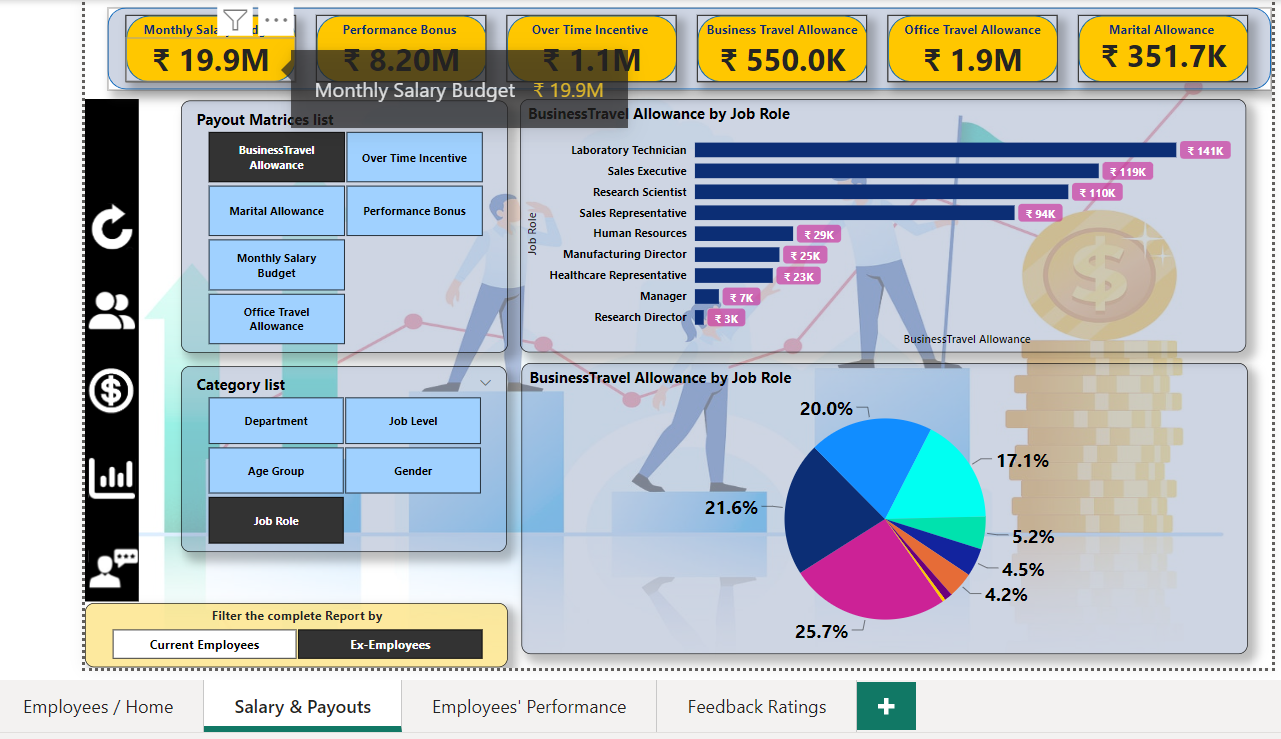

This screenshot's page, from the dashboard's own definition file:
{"tool":"powerbi","page":{"name":"Salary & Payouts","canvas":[1280,720],"ordinal":1},"visuals":[{"type":"shape","title":"backgroung","box":[24.3,8.1,1255,88.3],"z":0,"group":"g2"},{"type":"shape","box":[45.6,16.1,183.3,71.7],"z":0,"group":"g1"},{"type":"shape","box":[249.6,16.7,183.3,71.7],"z":0,"group":"g6"},{"type":"shape","box":[455,16.7,183.3,71.7],"z":0,"group":"g5"},{"type":"shape","box":[660.9,16.7,183.3,71.7],"z":0,"group":"g7"},{"type":"shape","box":[865.6,16.7,183.3,71.7],"z":0,"group":"g4"},{"type":"shape","box":[1071,16.7,183.3,71.7],"z":0,"group":"g3"},{"type":"actionButton","box":[0,212,58.2,64.7],"z":0,"group":"g8"},{"type":"slicer","title":"Filter the complete Report by","fields":{"Values":["Employees.attrition label"]},"box":[0,650.4,456.3,69.6],"z":0},{"type":"group","id":"g1","title":"Group 2","box":[45.6,16.1,183.3,71.7],"z":1000,"group":"g2"},{"type":"textbox","box":[45.6,16.1,183.3,36.7],"z":1000,"group":"g1"},{"type":"textbox","box":[249.6,16.7,183.3,36.7],"z":1000,"group":"g6"},{"type":"textbox","box":[455,16.7,183.3,36.7],"z":1000,"group":"g5"},{"type":"textbox","box":[660.3,16.7,183.3,36.7],"z":1000,"group":"g7"},{"type":"textbox","box":[865.6,16.7,183.3,36.7],"z":1000,"group":"g4"},{"type":"textbox","box":[1071,16.7,183.3,36.7],"z":1000,"group":"g3"},{"type":"shape","box":[0,106.8,58.2,542],"z":1000},{"type":"actionButton","box":[0,305.8,58.2,58.2],"z":1000,"group":"g8"},{"type":"group","id":"g2","title":"Group 3","box":[24.3,8.1,1255,88.3],"z":2000},{"type":"group","id":"g3","title":"Group 2","box":[1071,16.7,183.3,71.7],"z":2000,"group":"g2"},{"type":"card","title":"card","fields":{"Values":["Measures Table.$ Marital Allowance Paid Amount"]},"box":[1071.6,36.5,183.3,46.7],"z":2000,"group":"g3"},{"type":"card","title":"card","fields":{"Values":["Measures Table.$ yearly (base) Salary Budget"]},"box":[45.6,41.1,183.3,46.7],"z":2000,"group":"g1"},{"type":"card","title":"card","fields":{"Values":["Measures Table.$ Performance Bonus amount Paid"]},"box":[249.6,41.7,183.3,46.7],"z":2000,"group":"g6"},{"type":"card","title":"card","fields":{"Values":["Measures Table.$ Over Time Incentive Amount Paid"]},"box":[455,41.7,183.3,46.7],"z":2000,"group":"g5"},{"type":"card","title":"card","fields":{"Values":["Measures Table.$ BusinessTravel Allowance Paid Amount"]},"box":[660.3,41.7,183.3,46.7],"z":2000,"group":"g7"},{"type":"card","title":"card","fields":{"Values":["Measures Table.$ Office Travel Allowance Paid Amount"]},"box":[865.6,41.7,183.3,46.7],"z":2000,"group":"g4"},{"type":"actionButton","box":[0,393.2,58.2,56.6],"z":2000,"group":"g8"},{"type":"group","id":"g4","title":"Group 2","box":[865.6,16.7,183.3,71.7],"z":3000,"group":"g2"},{"type":"slicer","fields":{"Values":["#Parameter set of Payout Matrices.#Parameter set of Payout Matrices"]},"box":[103.6,108.4,352.7,271.8],"z":3000},{"type":"actionButton","box":[0,479,58.2,74.4],"z":3000,"group":"g8"},{"type":"group","id":"g5","title":"Group 2","box":[455,16.7,183.3,71.7],"z":4000,"group":"g2"},{"type":"barChart","fields":{"Y":["Measures Table.$ yearly (base) Salary Budget"],"Category":["Employees.Gender"]},"box":[469.2,106.8,784.7,273.4],"z":4000},{"type":"actionButton","box":[0,582.5,69.6,61.5],"z":4000,"group":"g8"},{"type":"group","id":"g6","title":"Group 2","box":[249.6,16.7,183.3,71.7],"z":5000,"group":"g2"},{"type":"slicer","fields":{"Values":["#Parameter- Category list.#Parameter- Category list"]},"box":[105.2,391.6,351.1,200.6],"z":5000},{"type":"group","id":"g7","title":"Business Travel payout","box":[660.3,16.7,183.3,71.7],"z":6000,"group":"g2"},{"type":"pieChart","fields":{"Y":["Measures Table.$ yearly (base) Salary Budget"],"Category":["Employees.Gender"]},"box":[470.8,391.6,783.1,313.9],"z":6000},{"type":"group","id":"g8","title":"Group 6","box":[0,212,69.6,432],"z":7000}]}

Visuals, with their boxes on the page's 1280x720 design canvas (x1, y1, x2, y2). These are canvas units, not pixel positions in the 1281x739 screenshot, which may show the page scaled, cropped or inside an application window:
"backgroung" shape: (24, 8, 1279, 96)
shape: (46, 16, 229, 88)
shape: (250, 17, 433, 88)
shape: (455, 17, 638, 88)
shape: (661, 17, 844, 88)
shape: (866, 17, 1049, 88)
shape: (1071, 17, 1254, 88)
actionButton: (0, 212, 58, 277)
"Filter the complete Report by" slicer: (0, 650, 456, 720)
"Group 2" group: (46, 16, 229, 88)
textbox: (46, 16, 229, 53)
textbox: (250, 17, 433, 53)
textbox: (455, 17, 638, 53)
textbox: (660, 17, 844, 53)
textbox: (866, 17, 1049, 53)
textbox: (1071, 17, 1254, 53)
shape: (0, 107, 58, 649)
actionButton: (0, 306, 58, 364)
"Group 3" group: (24, 8, 1279, 96)
"Group 2" group: (1071, 17, 1254, 88)
"card" card: (1072, 36, 1255, 83)
"card" card: (46, 41, 229, 88)
"card" card: (250, 42, 433, 88)
"card" card: (455, 42, 638, 88)
"card" card: (660, 42, 844, 88)
"card" card: (866, 42, 1049, 88)
actionButton: (0, 393, 58, 450)
"Group 2" group: (866, 17, 1049, 88)
slicer - #Parameter set of Payout Matrices.#Parameter set of Payout Matrices: (104, 108, 456, 380)
actionButton: (0, 479, 58, 553)
"Group 2" group: (455, 17, 638, 88)
barChart - Measures Table.$ yearly (base) Salary Budget x Employees.Gender: (469, 107, 1254, 380)
actionButton: (0, 582, 70, 644)
"Group 2" group: (250, 17, 433, 88)
slicer - #Parameter- Category list.#Parameter- Category list: (105, 392, 456, 592)
"Business Travel payout" group: (660, 17, 844, 88)
pieChart - Measures Table.$ yearly (base) Salary Budget x Employees.Gender: (471, 392, 1254, 706)
"Group 6" group: (0, 212, 70, 644)
